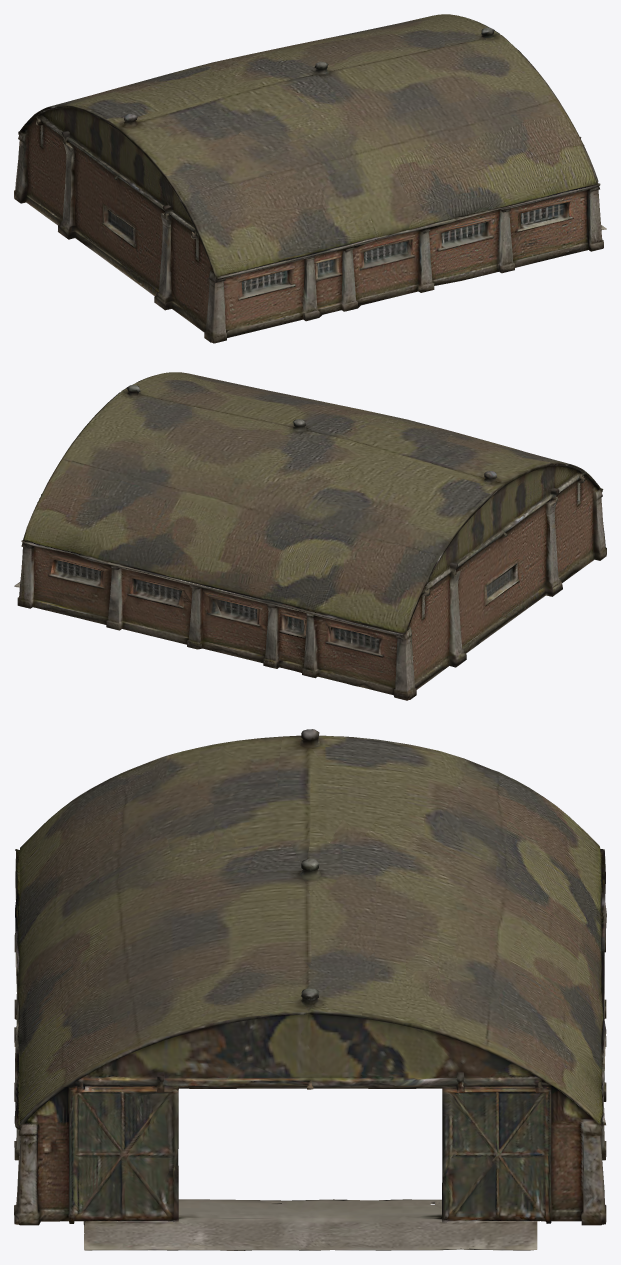
The model's file is prop_hangar.glb.
The picture shows the model from 3 angles, top to bottom: view 1: azimuth 30°, elevation 25°; view 2: azimuth 150°, elevation 25°; view 3: azimuth 270°, elevation 25°; orthographic projection. The views are drawn at different scales.
Visible parts, largest first — view 1: tripo_node_c4180119-91ff-454c-843f-6173e5dcca4b; view 2: tripo_node_c4180119-91ff-454c-843f-6173e5dcca4b; view 3: tripo_node_c4180119-91ff-454c-843f-6173e5dcca4b.
Boxes of the visible parts, <box> form: tripo_node_c4180119-91ff-454c-843f-6173e5dcca4b: <box>14,14,606,343</box>; tripo_node_c4180119-91ff-454c-843f-6173e5dcca4b: <box>14,372,606,700</box>; tripo_node_c4180119-91ff-454c-843f-6173e5dcca4b: <box>14,729,606,1250</box>.
Size of the model in its own units: 0.9816 by 0.3633 by 0.8124.
Materials: 1 (1 with a texture image).
